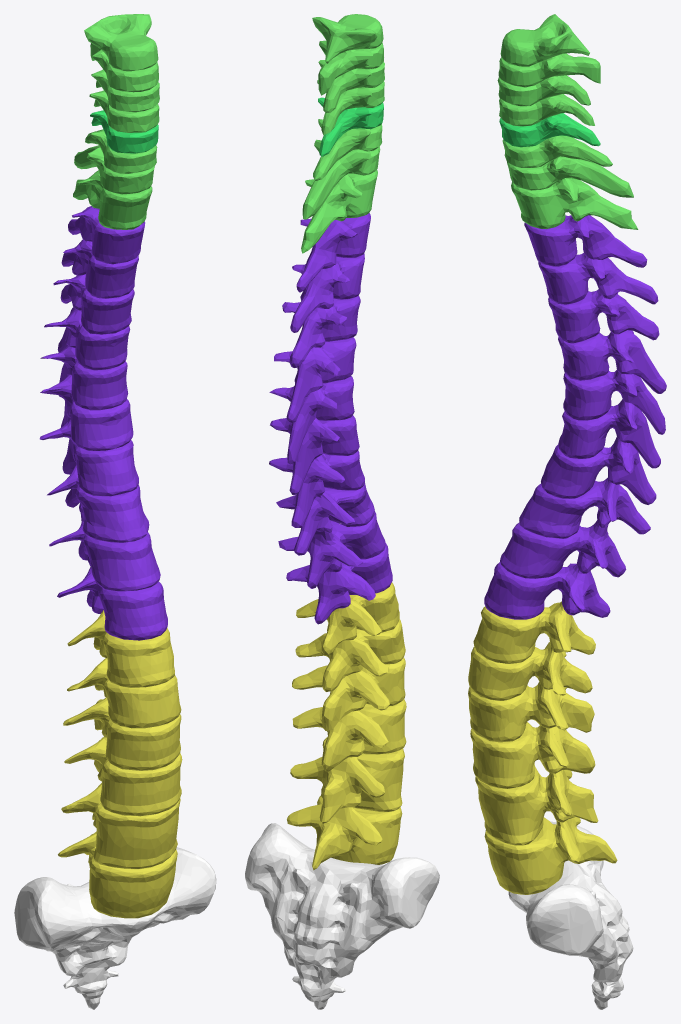
File: Tulang Belakang.glb
The picture shows the model from 3 angles, left to right: view 1: azimuth 30°, elevation 25°; view 2: azimuth 150°, elevation 25°; view 3: azimuth 270°, elevation 25°; orthographic projection. The views are drawn at different scales.
Parts seen in each view (by area): view 1: male_skeleton_first_anatomy_study037, male_skeleton_first_anatomy_study035, male_skeleton_first_anatomy_study034, male_skeleton_first_anatomy_study033, male_skeleton_first_anatomy_study032, male_skeleton_first_anatomy_study030, male_skeleton_first_anatomy_study029, male_skeleton_first_anatomy_study028, male_skeleton_first_anatomy_study031, male_skeleton_first_anatomy_study027, male_skeleton_first_anatomy_study026, male_skeleton_first_anatomy_study025 (+13 smaller); view 2: male_skeleton_first_anatomy_study037, male_skeleton_first_anatomy_study035, male_skeleton_first_anatomy_study034, male_skeleton_first_anatomy_study033, male_skeleton_first_anatomy_study032, male_skeleton_first_anatomy_study031, male_skeleton_first_anatomy_study028, male_skeleton_first_anatomy_study029, male_skeleton_first_anatomy_study030, male_skeleton_first_anatomy_study027, male_skeleton_first_anatomy_study023, male_skeleton_first_anatomy_study026 (+13 smaller); view 3: male_skeleton_first_anatomy_study037, male_skeleton_first_anatomy_study035, male_skeleton_first_anatomy_study034, male_skeleton_first_anatomy_study033, male_skeleton_first_anatomy_study032, male_skeleton_first_anatomy_study028, male_skeleton_first_anatomy_study029, male_skeleton_first_anatomy_study030, male_skeleton_first_anatomy_study027, male_skeleton_first_anatomy_study031, male_skeleton_first_anatomy_study026, male_skeleton_first_anatomy_study019 (+13 smaller).
Boxes of the visible parts, x1=… form: male_skeleton_first_anatomy_study037: x1=14, y1=847, x2=216, y2=1009; male_skeleton_first_anatomy_study035: x1=61, y1=783, x2=180, y2=868; male_skeleton_first_anatomy_study034: x1=58, y1=831, x2=177, y2=918; male_skeleton_first_anatomy_study033: x1=64, y1=736, x2=182, y2=816; male_skeleton_first_anatomy_study032: x1=63, y1=697, x2=181, y2=770; male_skeleton_first_anatomy_study030: x1=67, y1=610, x2=174, y2=687; male_skeleton_first_anatomy_study029: x1=57, y1=567, x2=167, y2=640; male_skeleton_first_anatomy_study028: x1=49, y1=512, x2=160, y2=591; male_skeleton_first_anatomy_study031: x1=67, y1=658, x2=181, y2=728; male_skeleton_first_anatomy_study027: x1=47, y1=464, x2=149, y2=542; male_skeleton_first_anatomy_study026: x1=39, y1=418, x2=138, y2=496; male_skeleton_first_anatomy_study025: x1=40, y1=374, x2=133, y2=450; male_skeleton_first_anatomy_study037: x1=245, y1=823, x2=439, y2=1009; male_skeleton_first_anatomy_study035: x1=290, y1=737, x2=404, y2=823; male_skeleton_first_anatomy_study034: x1=287, y1=795, x2=402, y2=870; male_skeleton_first_anatomy_study033: x1=292, y1=699, x2=406, y2=771; male_skeleton_first_anatomy_study032: x1=292, y1=657, x2=405, y2=730; male_skeleton_first_anatomy_study031: x1=295, y1=619, x2=405, y2=691; male_skeleton_first_anatomy_study028: x1=278, y1=511, x2=385, y2=588; male_skeleton_first_anatomy_study029: x1=286, y1=543, x2=392, y2=624; male_skeleton_first_anatomy_study030: x1=296, y1=582, x2=399, y2=655; male_skeleton_first_anatomy_study027: x1=276, y1=482, x2=374, y2=555; male_skeleton_first_anatomy_study023: x1=274, y1=337, x2=356, y2=423; male_skeleton_first_anatomy_study026: x1=269, y1=450, x2=364, y2=527; male_skeleton_first_anatomy_study037: x1=508, y1=821, x2=633, y2=1009; male_skeleton_first_anatomy_study035: x1=475, y1=766, x2=598, y2=845; male_skeleton_first_anatomy_study034: x1=484, y1=817, x2=617, y2=894; male_skeleton_first_anatomy_study033: x1=470, y1=722, x2=595, y2=788; male_skeleton_first_anatomy_study032: x1=468, y1=682, x2=594, y2=742; male_skeleton_first_anatomy_study028: x1=500, y1=520, x2=626, y2=578; male_skeleton_first_anatomy_study029: x1=484, y1=562, x2=610, y2=619; male_skeleton_first_anatomy_study030: x1=473, y1=601, x2=595, y2=663; male_skeleton_first_anatomy_study027: x1=519, y1=477, x2=650, y2=538; male_skeleton_first_anatomy_study031: x1=468, y1=642, x2=592, y2=700; male_skeleton_first_anatomy_study026: x1=541, y1=437, x2=656, y2=504; male_skeleton_first_anatomy_study019: x1=511, y1=178, x2=638, y2=229.
Bounding box in the file's own units: 1.21 × 6.58 × 1.21.
